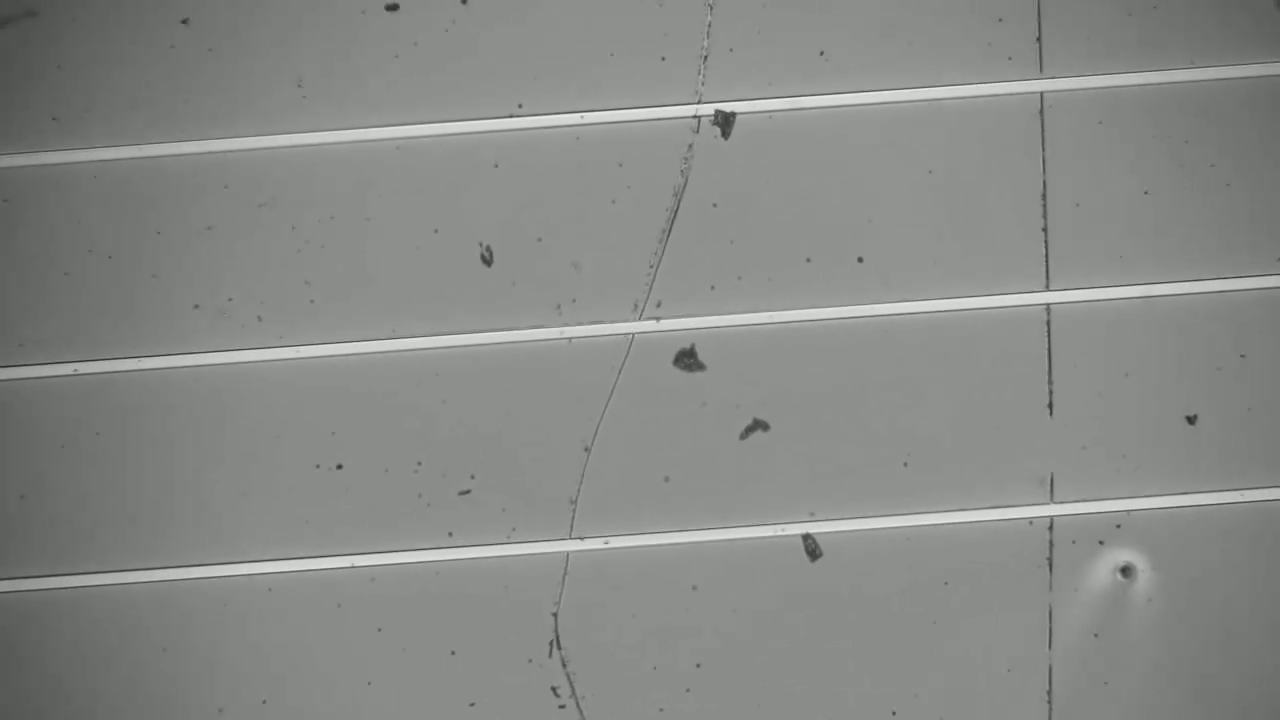scratch: (539, 7, 730, 708), (1016, 1, 1080, 428), (1022, 451, 1108, 713)
